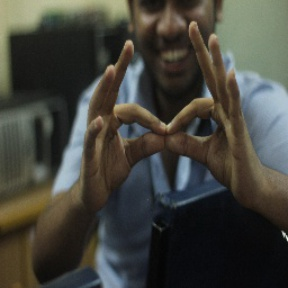B: (103, 83, 229, 177)
